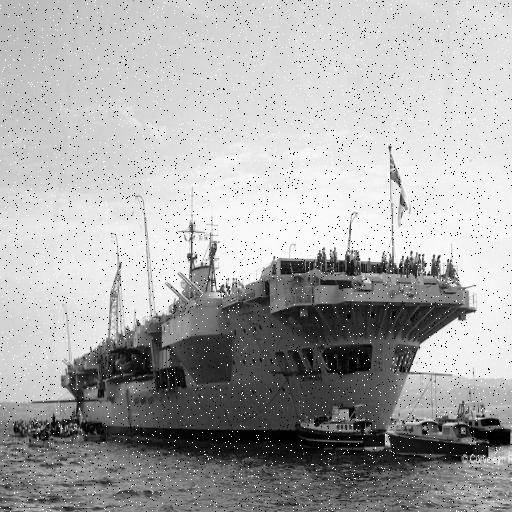Portanaves: (58, 138, 478, 454)
